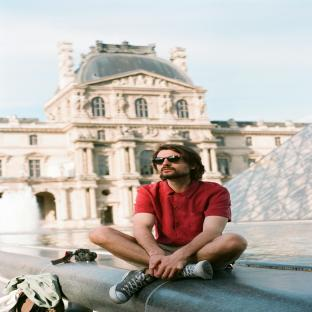Human: (89, 144, 247, 304)
